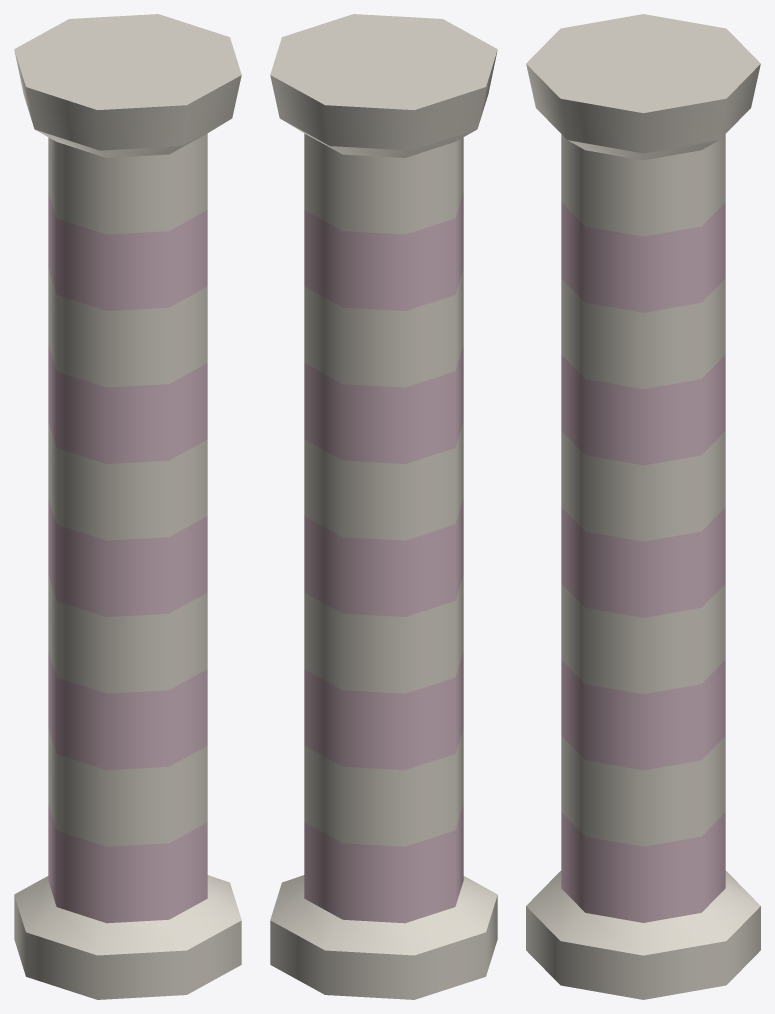
File: pillar_pastel.glb
The picture shows the model from 3 angles, left to right: view 1: azimuth 30°, elevation 25°; view 2: azimuth 150°, elevation 25°; view 3: azimuth 270°, elevation 25°; orthographic projection.
Parts seen in each view (by area): view 1: Pillar_pastel; view 2: Pillar_pastel; view 3: Pillar_pastel.
Part boxes in pixels (x1,y1,x2,y2): Pillar_pastel: (14, 14, 241, 999); Pillar_pastel: (270, 14, 497, 999); Pillar_pastel: (526, 14, 760, 999).
Size of the model in its own units: 1.2 by 5 by 1.2.
